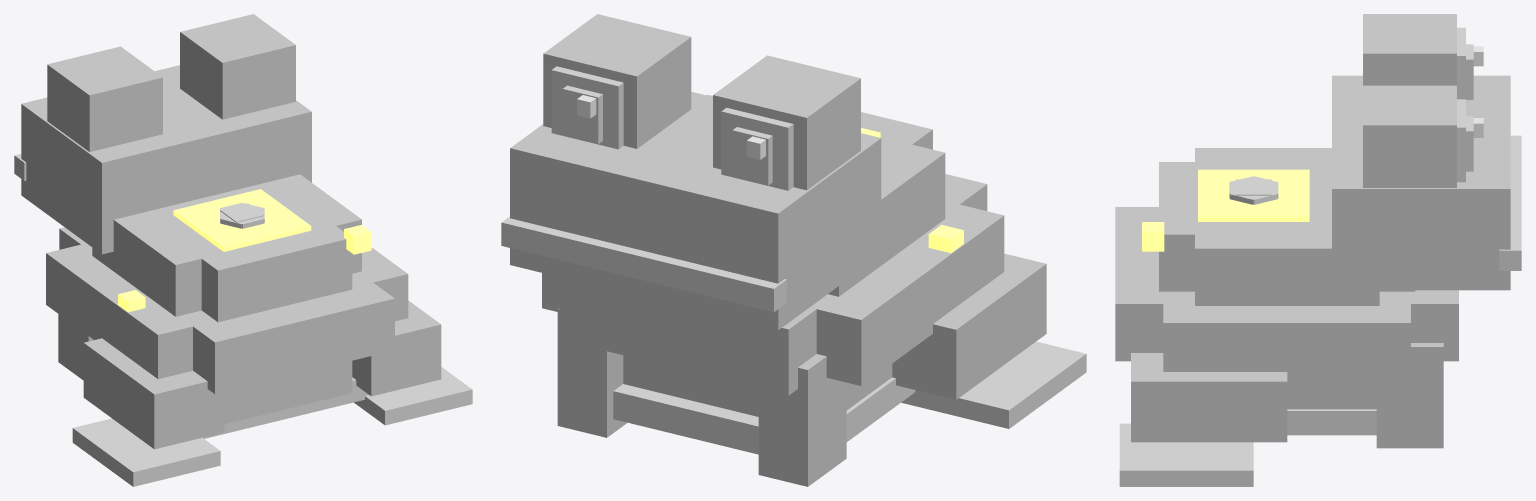
The model's file is NuclearFrog.fbx.
3 renders of one model, left to right at view 1: azimuth 30°, elevation 25°; view 2: azimuth 150°, elevation 25°; view 3: azimuth 270°, elevation 25°, orthographic. The views are drawn at different scales.
Visible parts, largest first — view 1: Nuclear Frog_head_7, Nuclear Frog_body_3, Nuclear Frog_body_2, Nuclear Frog_body_4, Nuclear Frog_body_5, Nuclear Frog_head_13, Nuclear Frog_head_9, Nuclear Frog_legBL_23, Nuclear Frog_legBL_25, Nuclear Frog_legBR_22, Nuclear Frog_body_1, Nuclear Frog_body_17 (+6 smaller); view 2: Nuclear Frog_head_7, Nuclear Frog_body_2, Nuclear Frog_body_3, Nuclear Frog_legBL_23, Nuclear Frog_head_9, Nuclear Frog_head_13, Nuclear Frog_legFL_27, Nuclear Frog_head_8, Nuclear Frog_body_6, Nuclear Frog_legBL_25, Nuclear Frog_body_4, Nuclear Frog_legFR_26 (+8 smaller); view 3: Nuclear Frog_head_7, Nuclear Frog_body_2, Nuclear Frog_body_4, Nuclear Frog_legBR_22, Nuclear Frog_head_9, Nuclear Frog_body_3, Nuclear Frog_body_5, Nuclear Frog_head_13, Nuclear Frog_legBR_24, Nuclear Frog_legFR_26, Nuclear Frog_body_17, Nuclear Frog_body_0 (+8 smaller).
Part boxes in pixels (x1,y1,x2,y2): Nuclear Frog_head_7: (21,65,311,254); Nuclear Frog_body_3: (59,227,394,393); Nuclear Frog_body_2: (46,244,408,378); Nuclear Frog_body_4: (92,174,361,316); Nuclear Frog_body_5: (201,180,352,322); Nuclear Frog_head_13: (47,46,162,151); Nuclear Frog_head_9: (180,14,295,119); Nuclear Frog_legBL_23: (83,338,224,449); Nuclear Frog_legBL_25: (72,418,220,486); Nuclear Frog_legBR_22: (352,300,441,396); Nuclear Frog_body_1: (224,361,352,424); Nuclear Frog_body_17: (173,189,311,251); Nuclear Frog_head_7: (510,92,881,330); Nuclear Frog_body_2: (542,201,1004,385); Nuclear Frog_body_3: (559,174,987,395); Nuclear Frog_legBL_23: (892,253,1046,399); Nuclear Frog_head_9: (543,14,691,148); Nuclear Frog_head_13: (713,55,860,190); Nuclear Frog_legFL_27: (758,354,846,486); Nuclear Frog_head_8: (501,216,786,312); Nuclear Frog_body_6: (613,377,915,454); Nuclear Frog_legBL_25: (901,341,1086,428); Nuclear Frog_body_4: (706,94,945,296); Nuclear Frog_legFR_26: (557,308,627,437); Nuclear Frog_head_7: (1332,75,1510,290); Nuclear Frog_body_2: (1163,291,1410,380); Nuclear Frog_body_4: (1195,148,1379,305); Nuclear Frog_legBR_22: (1131,353,1287,442); Nuclear Frog_head_9: (1363,85,1456,187); Nuclear Frog_body_3: (1115,207,1458,361); Nuclear Frog_body_5: (1159,162,1415,291); Nuclear Frog_head_13: (1363,14,1456,85); Nuclear Frog_legBR_24: (1119,423,1253,486); Nuclear Frog_legFR_26: (1376,343,1443,448); Nuclear Frog_body_17: (1198,169,1309,221); Nuclear Frog_body_0: (1287,380,1376,409).
Bounding box in the file's own units: 194 × 161 × 182.
